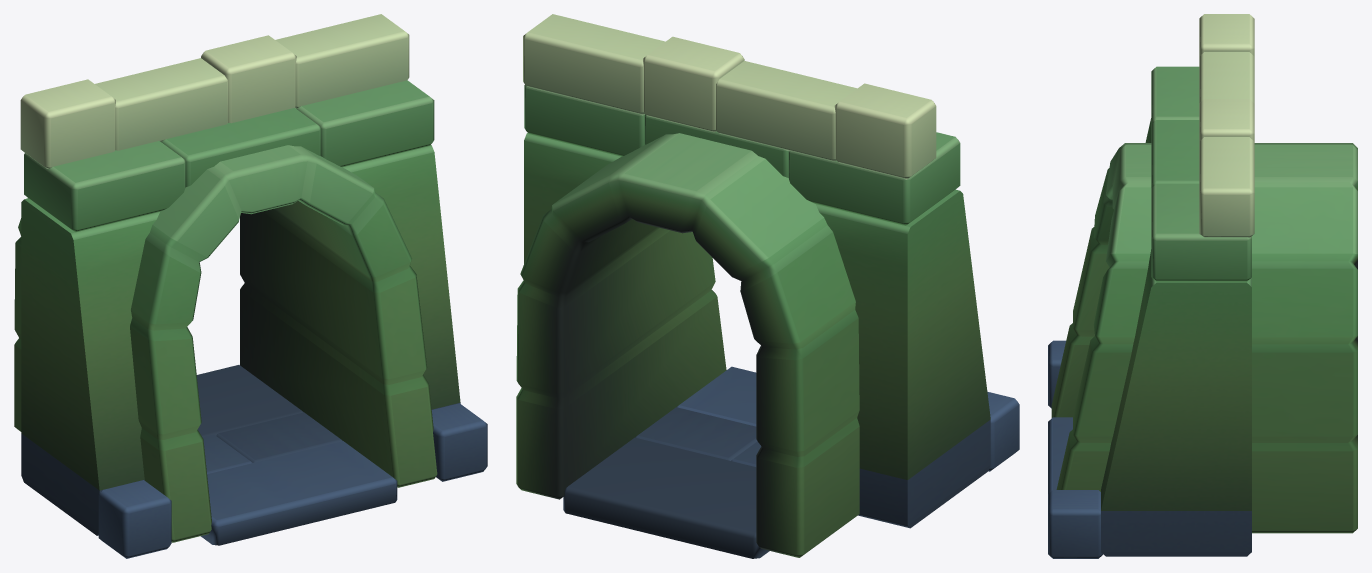
File: doorway_wall_walkable.fbx
3 views of the same model, side by side, from view 1: azimuth 30°, elevation 25°; view 2: azimuth 150°, elevation 25°; view 3: azimuth 270°, elevation 25° (orthographic). The views are drawn at different scales.
Visible parts, largest first — view 1: doorway_wall_walkable; view 2: doorway_wall_walkable; view 3: doorway_wall_walkable.
Boxes of the visible parts, x1,y1,x2,y2 form: doorway_wall_walkable: (14, 14, 487, 558); doorway_wall_walkable: (516, 14, 1019, 558); doorway_wall_walkable: (1048, 14, 1357, 558).
Size of the model in its own units: 405 by 420 by 308.
